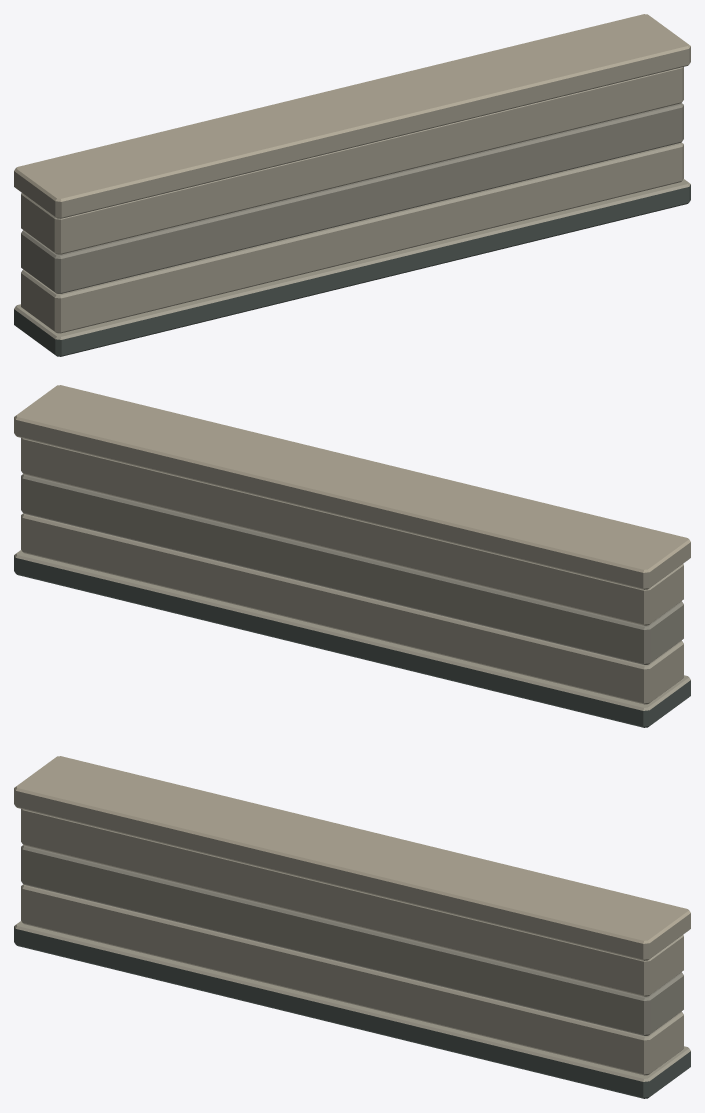
The model's file is wall-long.glb.
3 renders of one model, top to bottom at view 1: azimuth 30°, elevation 25°; view 2: azimuth 150°, elevation 25°; view 3: azimuth 330°, elevation 25°, orthographic.
Parts seen in each view (by area): view 1: wall-long__body; view 2: wall-long__body; view 3: wall-long__body.
Part boxes in pixels (x1,y1,x2,y2): wall-long__body: (14,14,690,356); wall-long__body: (14,385,690,727); wall-long__body: (14,756,690,1098).
Bounding box in the file's own units: 4 × 0.95 × 0.5.
